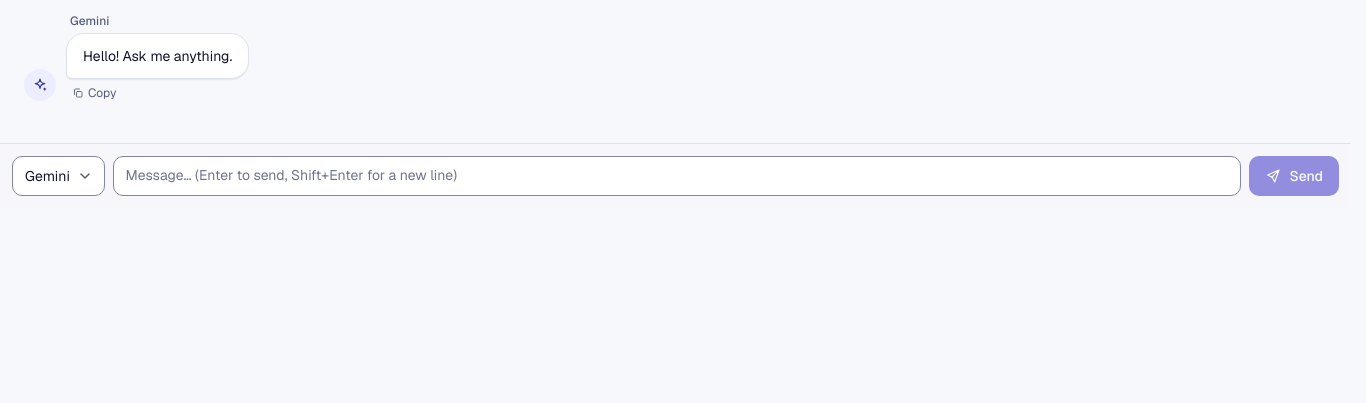
Test: ChatWindow › sends with the Send button and streams the reply into the log
Type "Help me prep" into the text box labelled "Message".
click(677, 176); type("Help me prep")  # box [113, 156, 1241, 196]
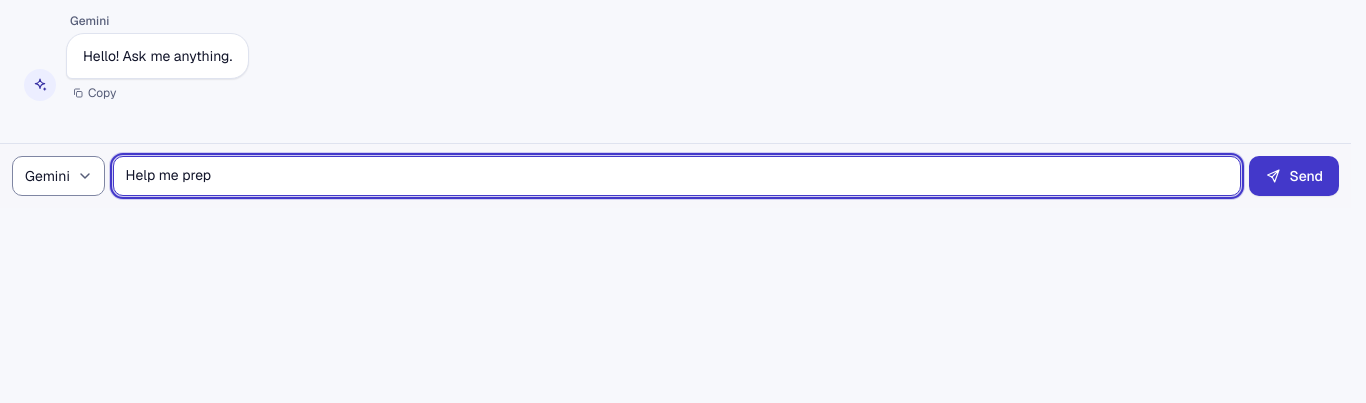
Click the button "Send".
click(1294, 176)  # box [1249, 156, 1339, 196]
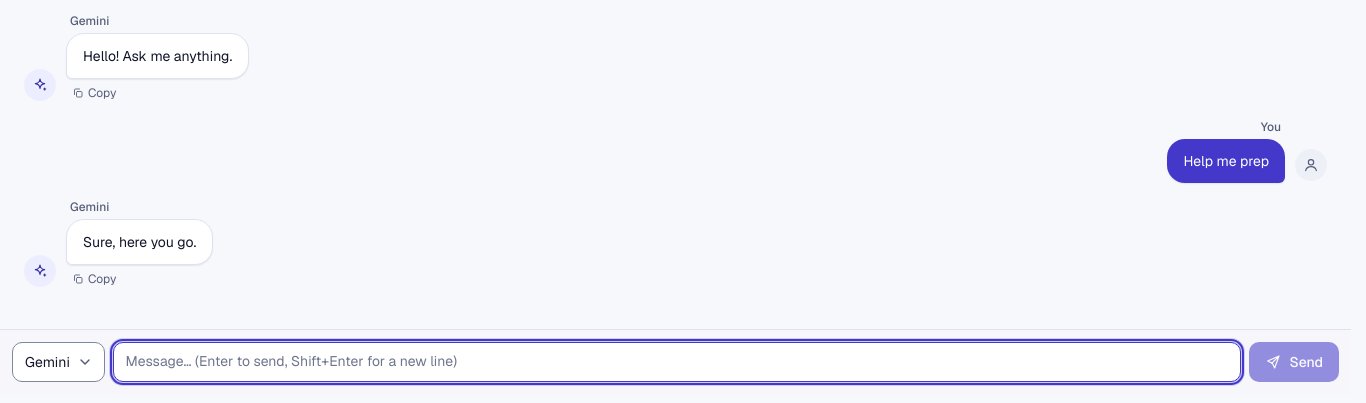
Check: the text "Sure, here you go." is shown, box [83, 230, 196, 254]
Check: the element that starts with "Gemini" shows "Help me prep", box [1183, 152, 1269, 170]
Check: the text box labelled "Message" is empty, box [113, 342, 1241, 382]
